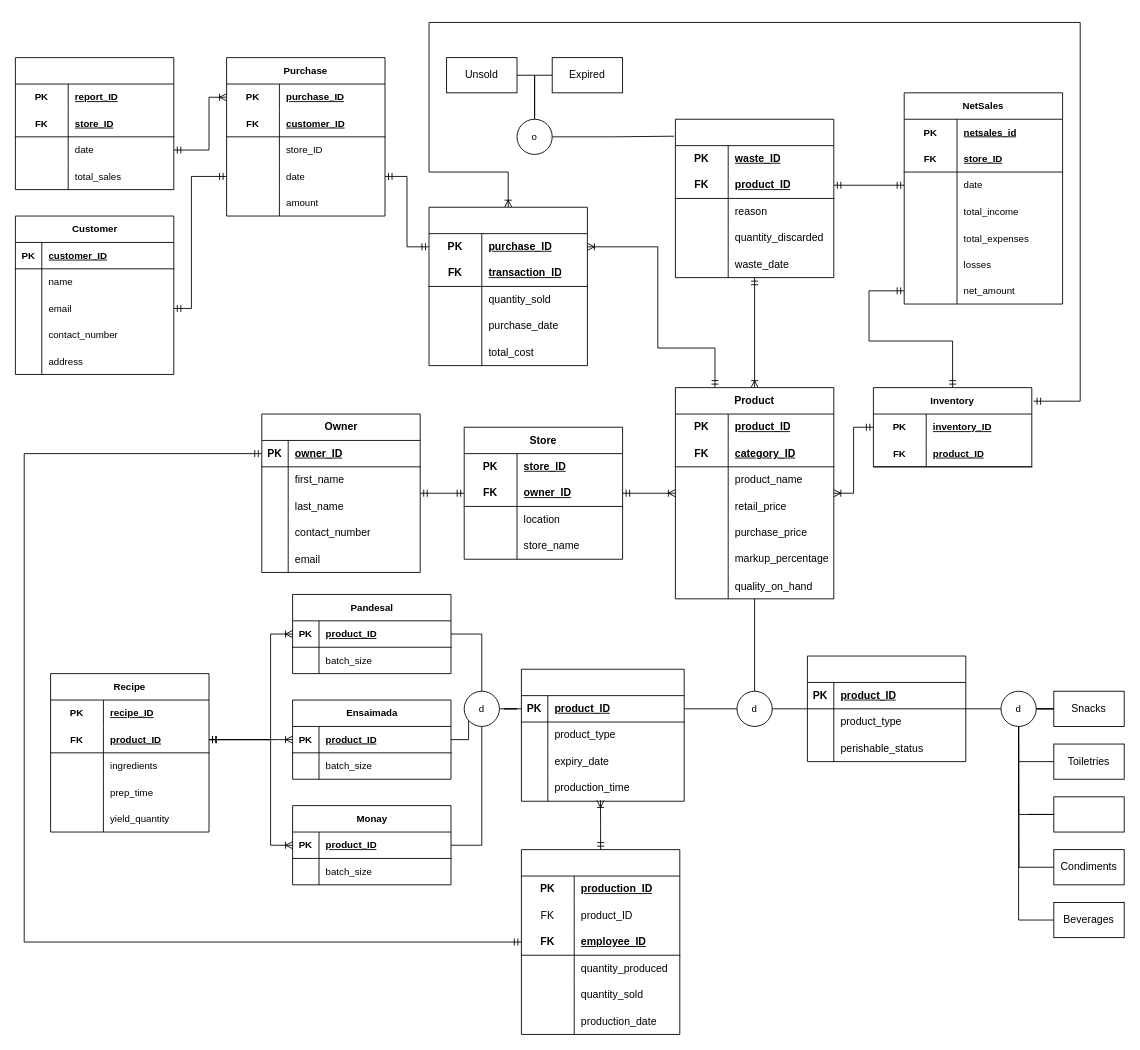
Image size: 1140x1050. Some labels were removed from this diagram. The box of each missing label's shape, as (x1, y1, x2, y2) in pixels:
BakeryItem: (521, 668, 684, 801)
Detergents: (1053, 796, 1124, 832)
ProductionLog: (521, 849, 680, 1034)
PurchaseRecords: (428, 206, 587, 366)
SalesReport: (15, 57, 174, 190)
SariSariItem: (807, 655, 966, 762)
WasteLog: (675, 118, 834, 278)
